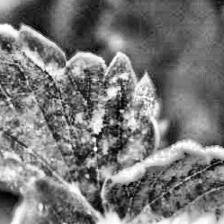Powdery Mildew Leaf: (0, 20, 159, 218), (98, 138, 224, 224), (3, 179, 135, 224)
